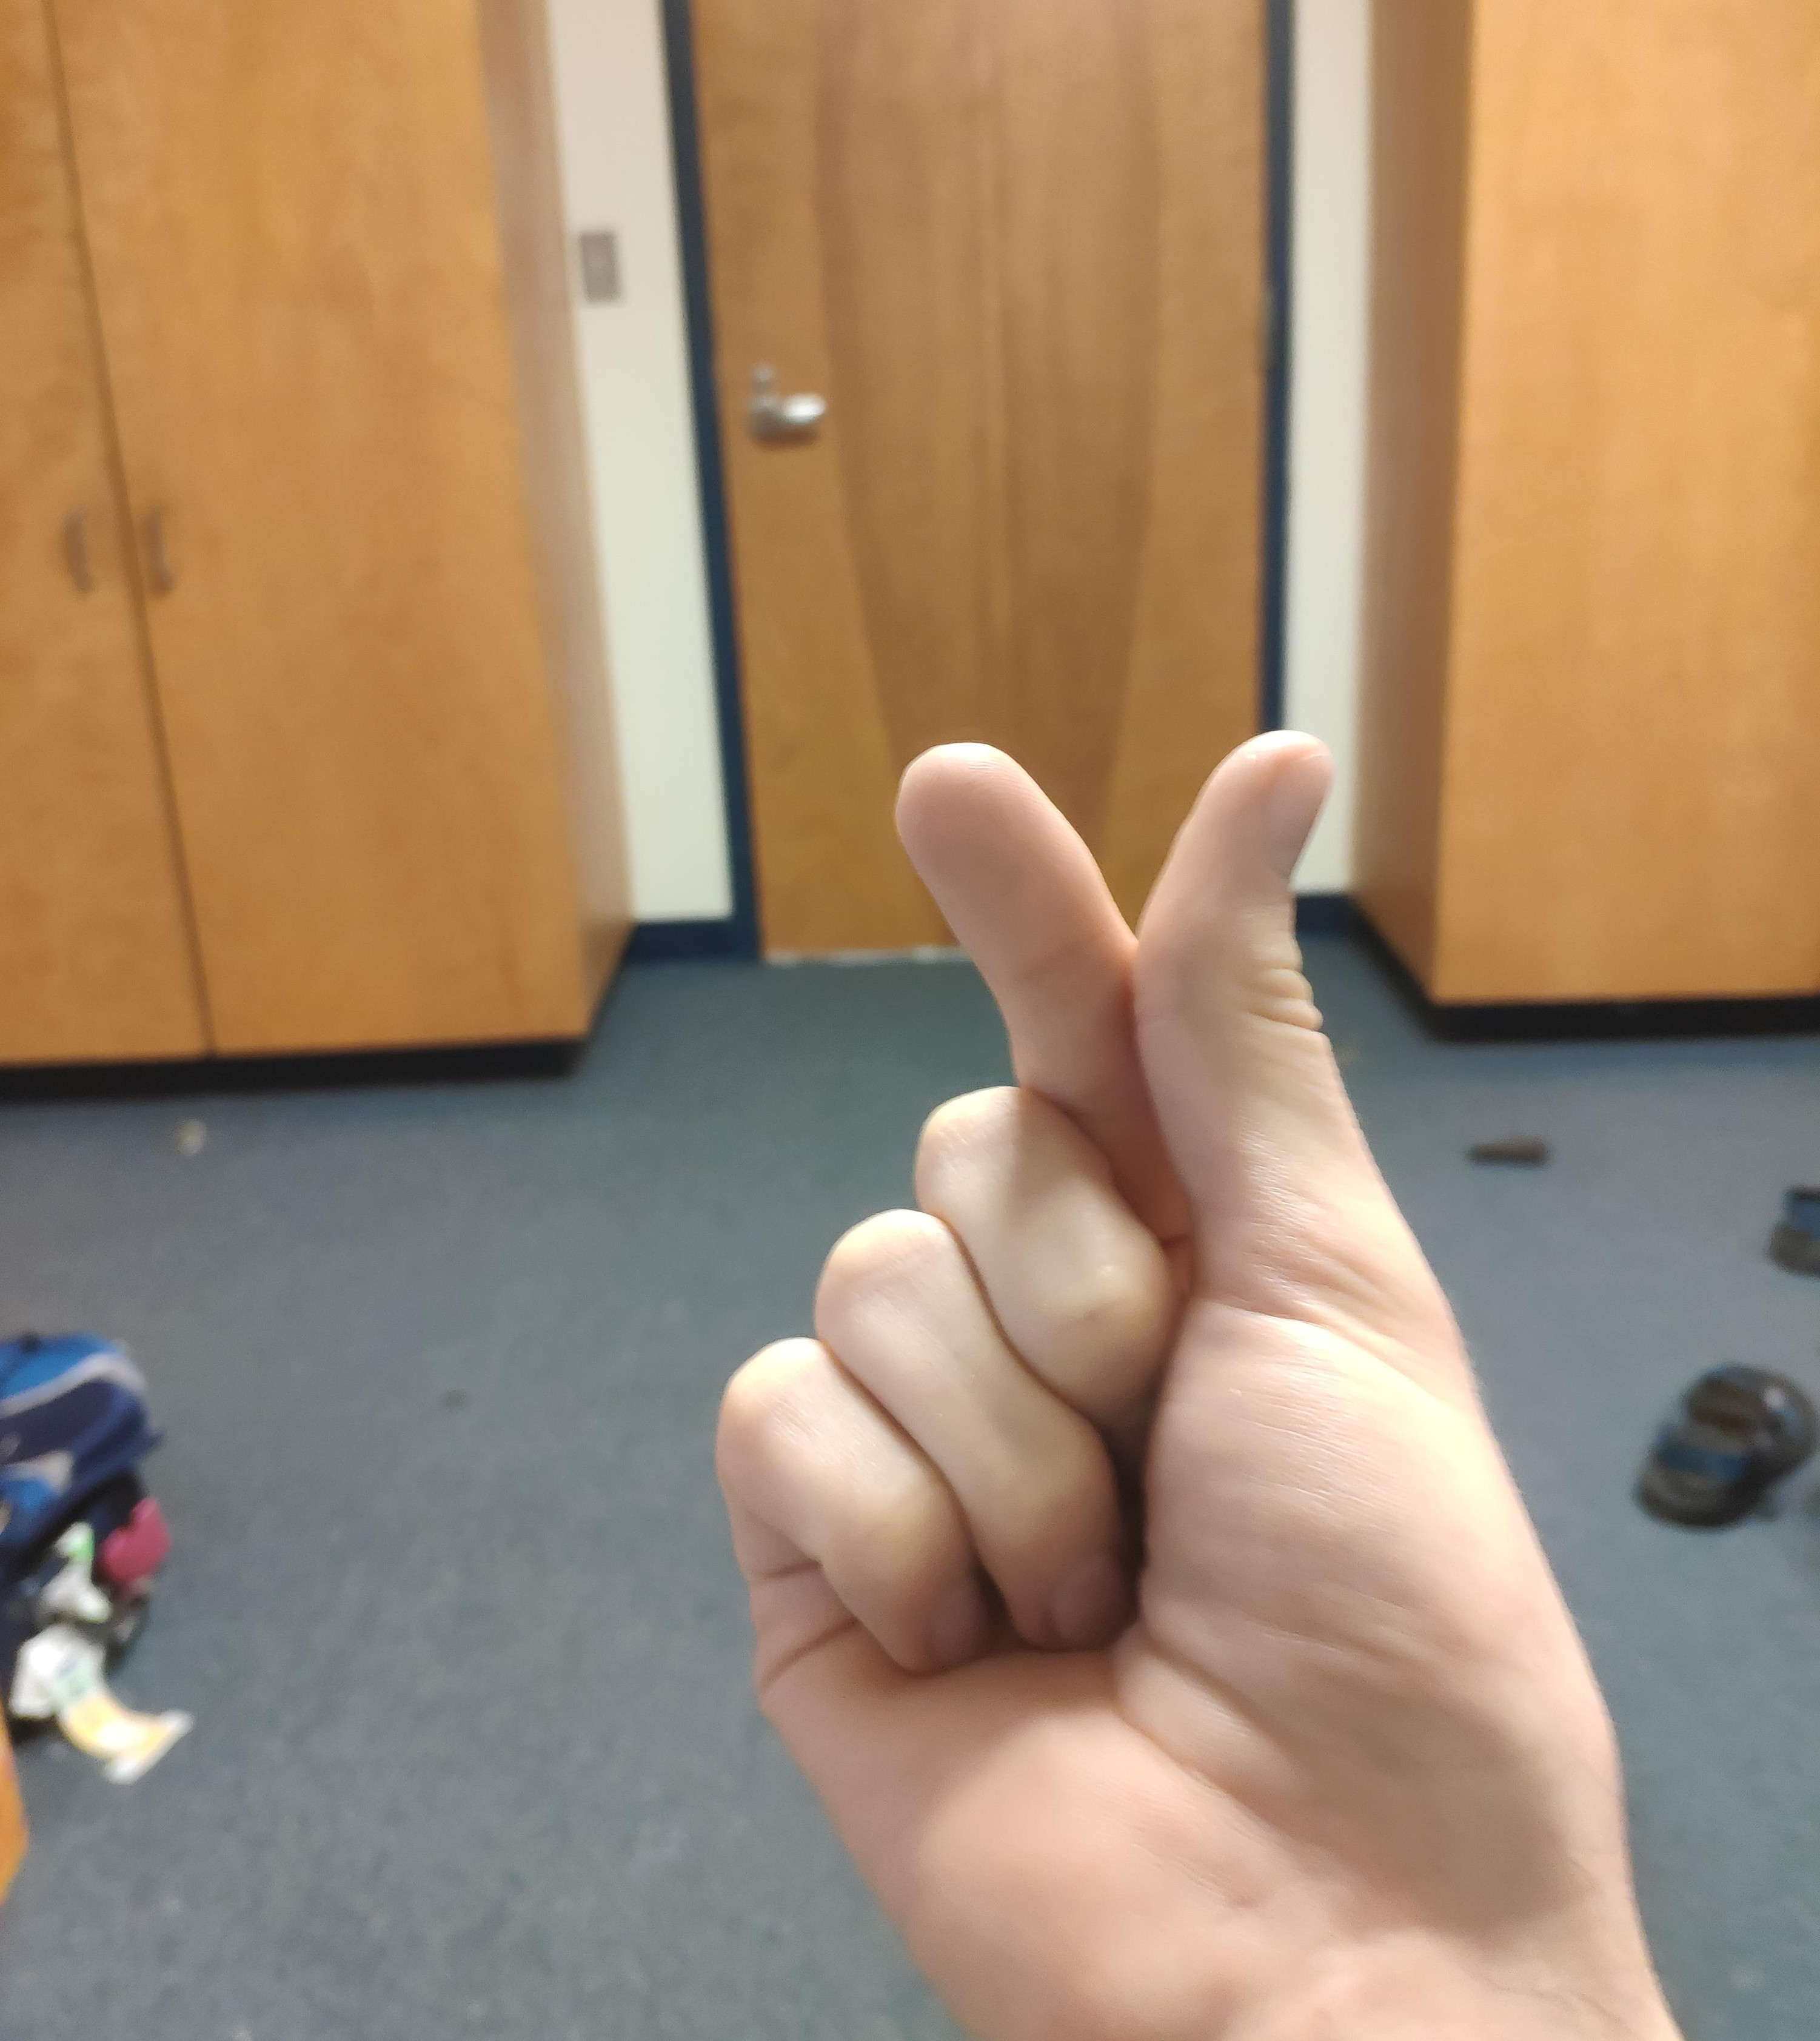heart gesture: (878, 718, 1353, 1091)
